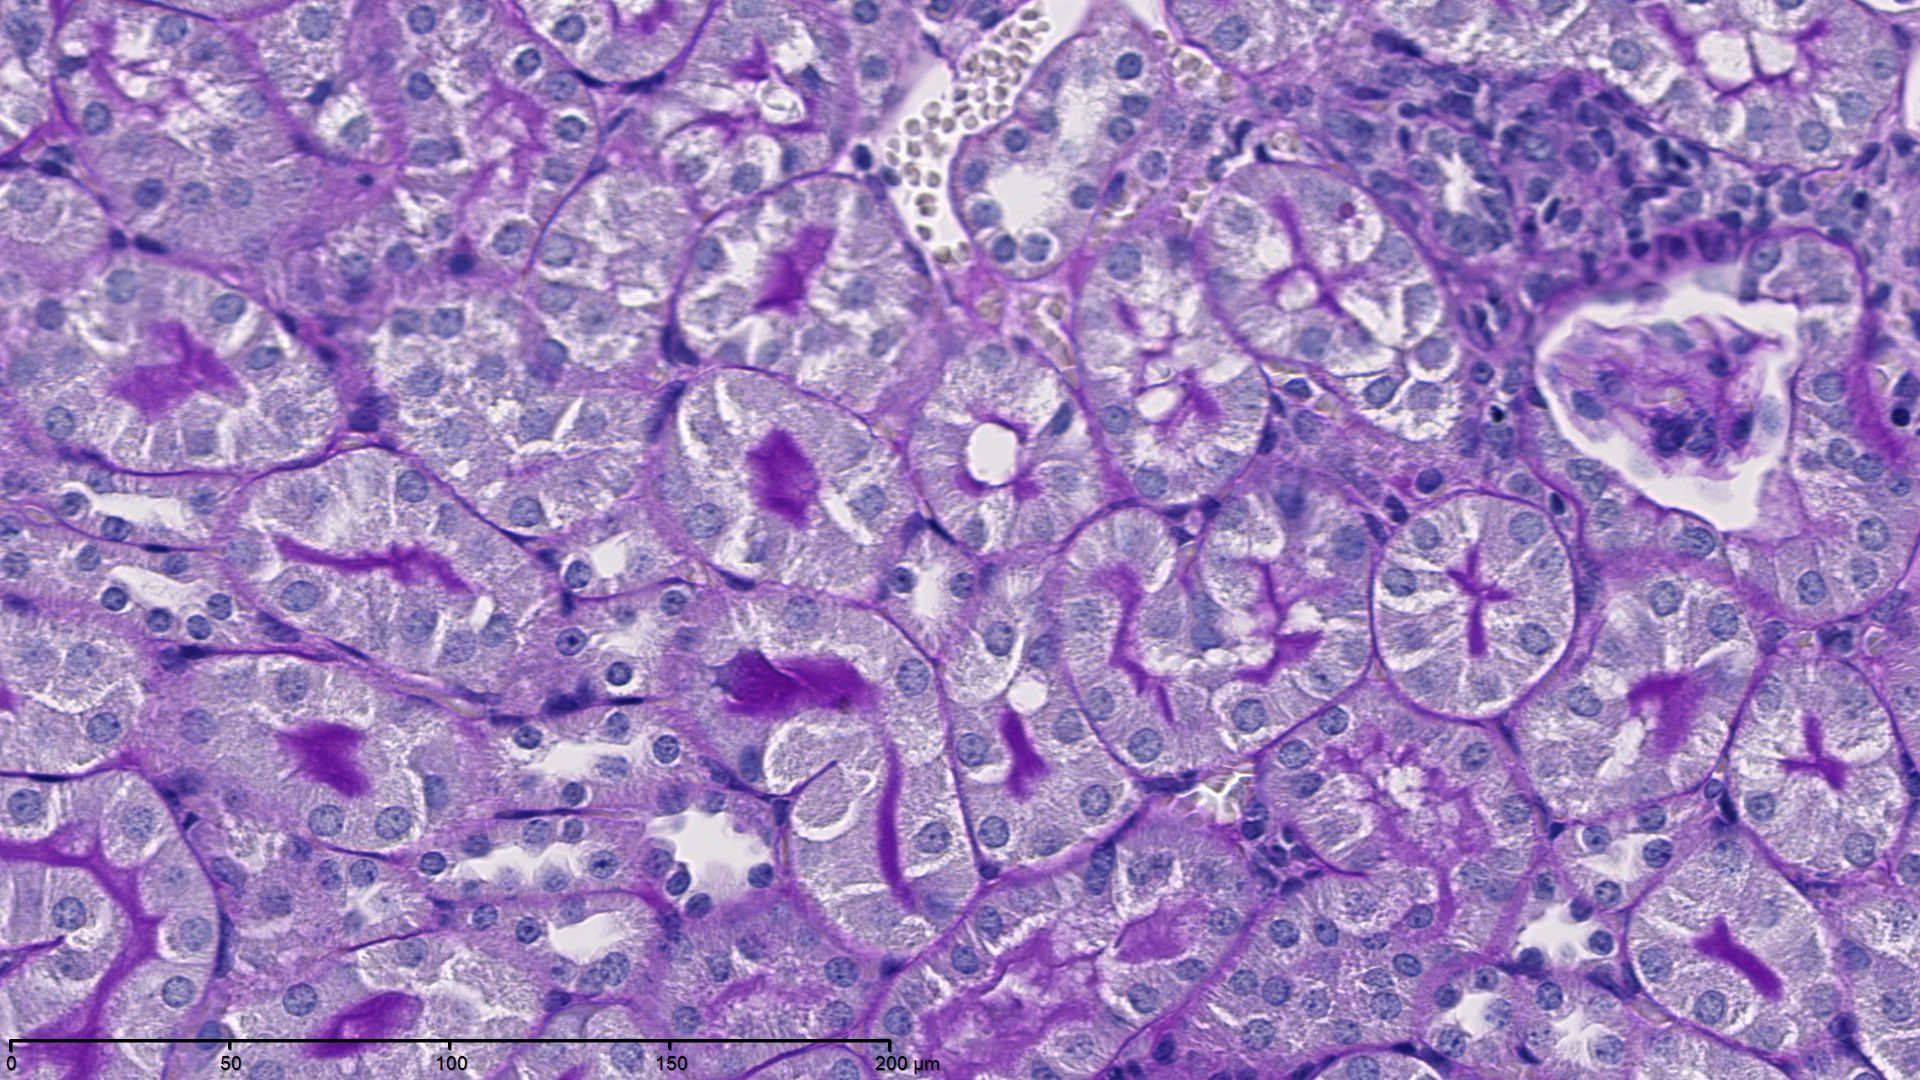Glomeruli: (1284, 46, 1706, 286), (1551, 295, 1796, 522)
